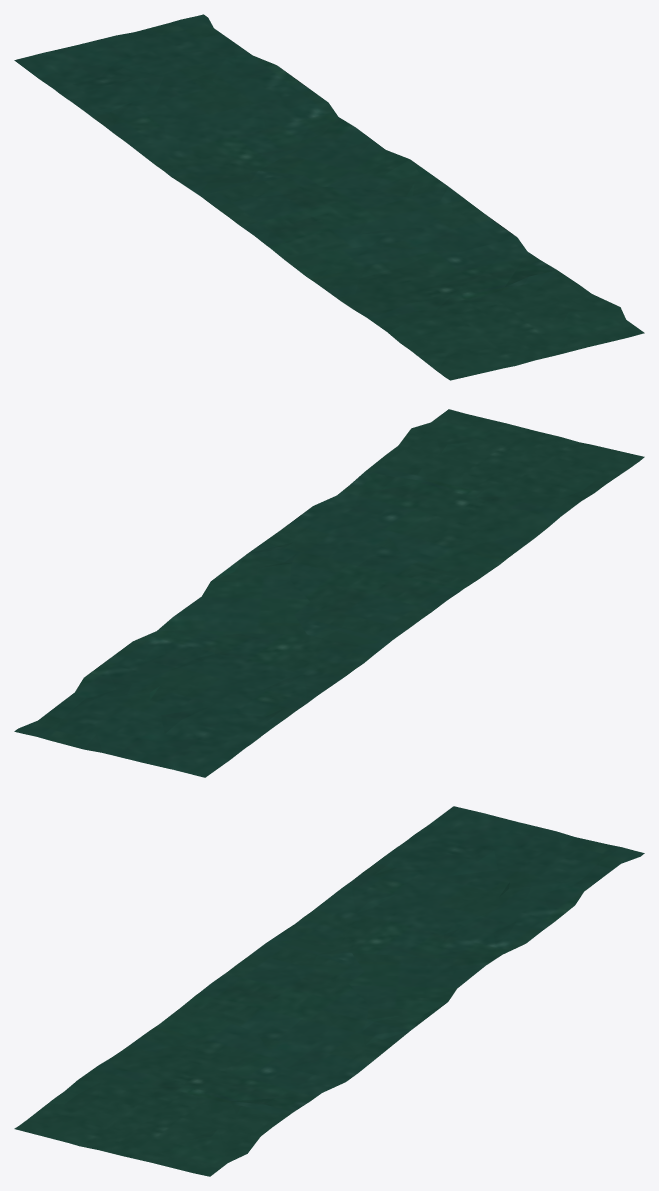
The picture shows the model from 3 angles, top to bottom: view 1: azimuth 30°, elevation 25°; view 2: azimuth 150°, elevation 25°; view 3: azimuth 330°, elevation 25°; orthographic projection.
Bounding box in the file's own units: 27.78 × 0.6113 × 104.
1 material, 1 textured.
